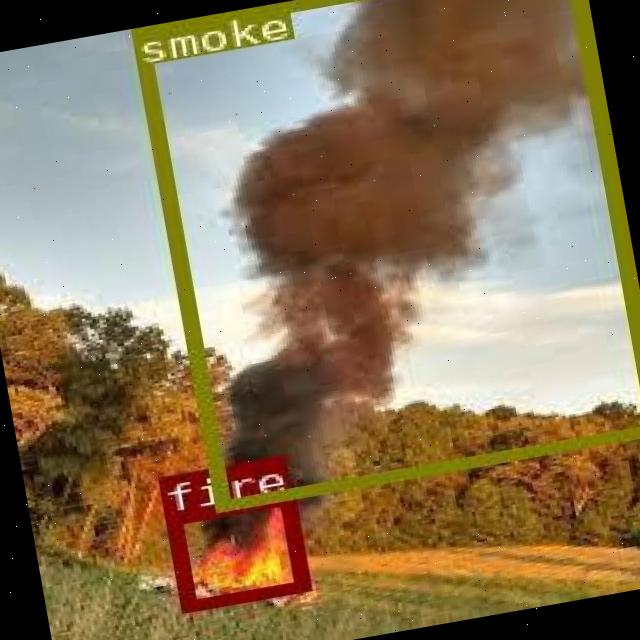fire: (162, 492, 306, 611)
smoke: (127, 0, 640, 508)
